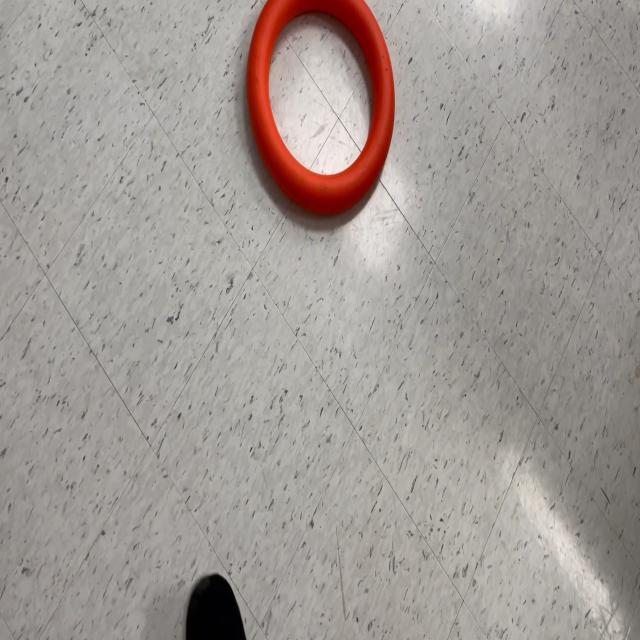note: (246, 0, 397, 217)
